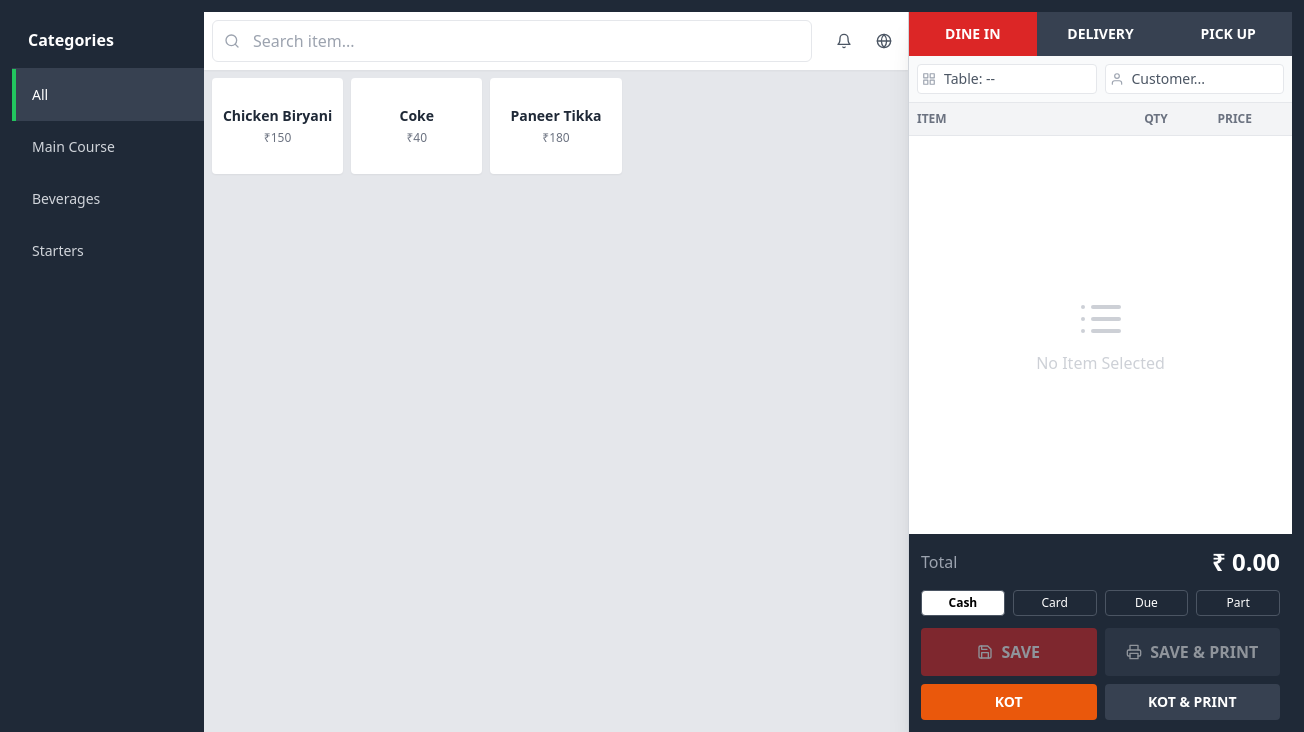
Test case: POS Component › filters menu by category
Expected: the button "Main Course" is shown, x1=12 y1=121 x2=204 y2=173
Click Beverage category
Click the button "Beverages": (108, 199) x1=12 y1=173 x2=204 y2=225
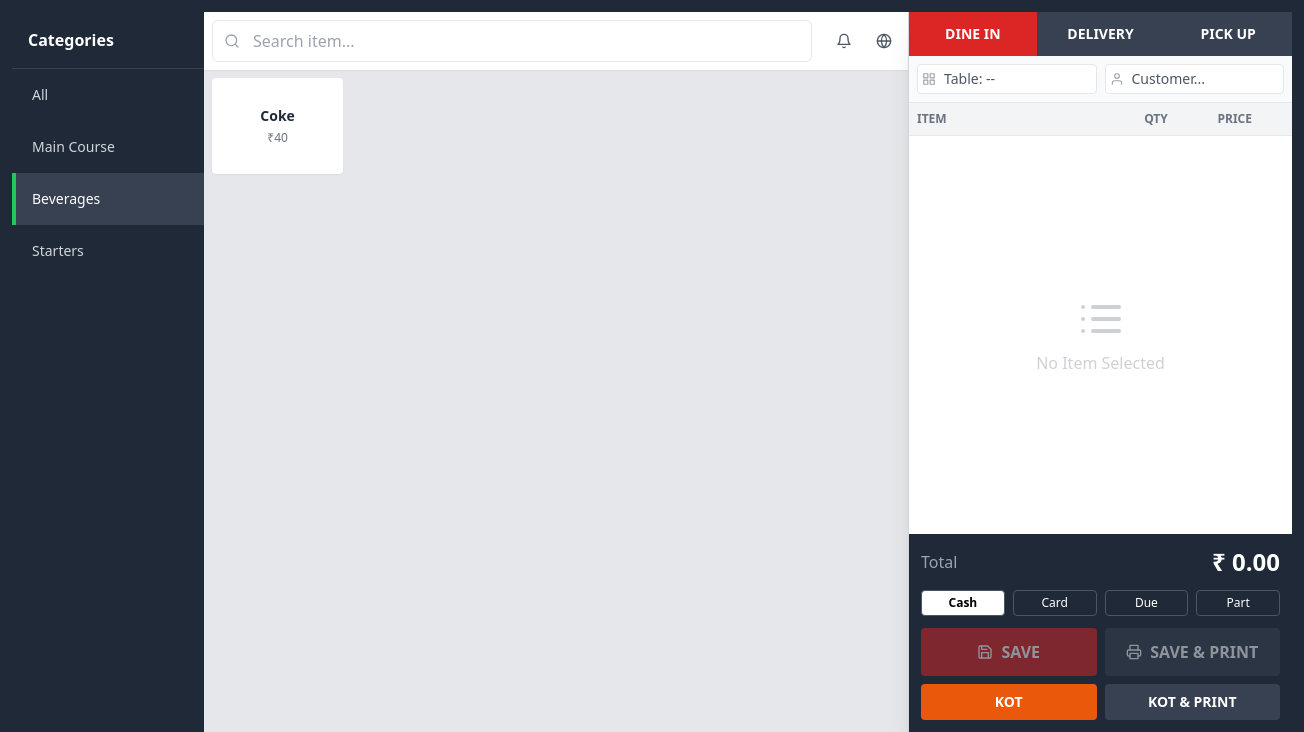
Expected: the text "Coke" is shown, x1=260 y1=106 x2=295 y2=126
Now the button "Chicken Biryani" is gone
